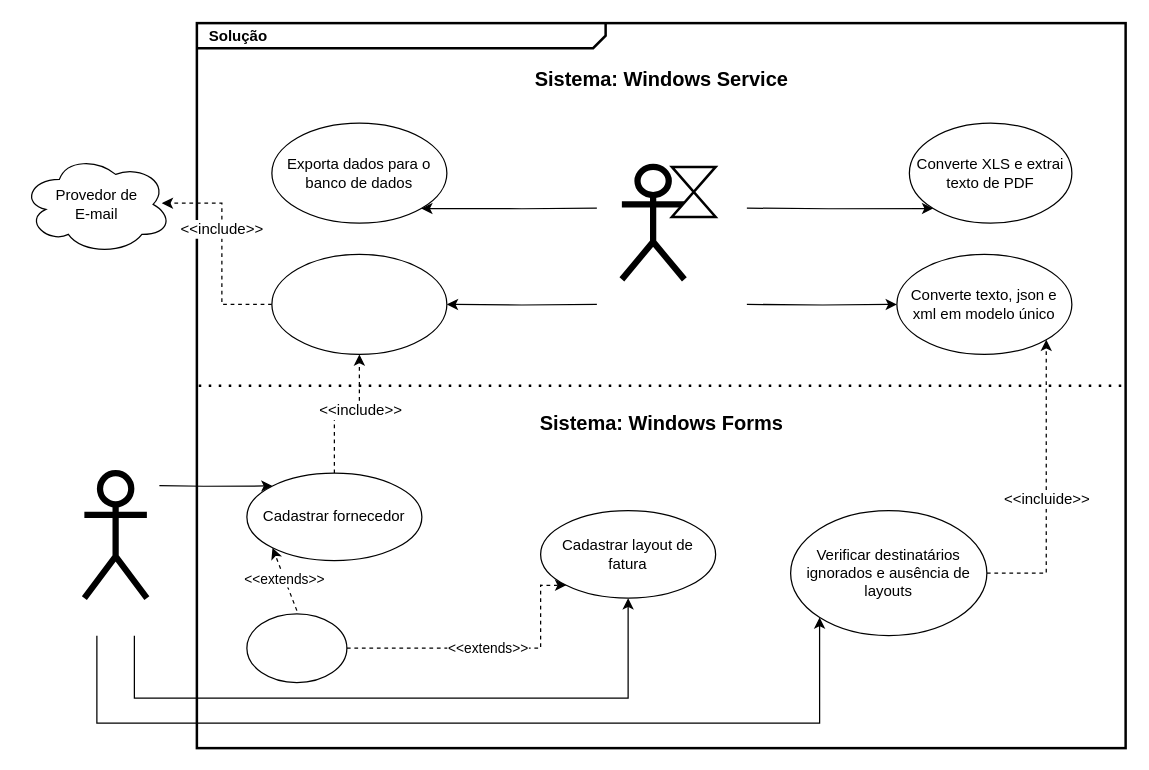
This 1149x770 diagram has some shape labels left out. Each missing label, with the centre of its shape:
"Cliente" goes at point (115, 535).
"CRUD" goes at point (296, 647).
"Recebe arquivos do e-mail" goes at point (359, 303).
"Temporizador" goes at point (652, 222).
